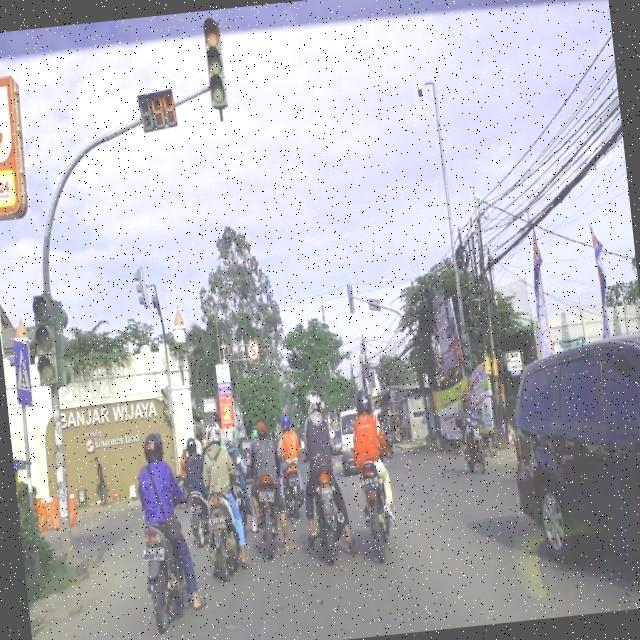Czerwone swiatlo: (204, 15, 227, 110)
